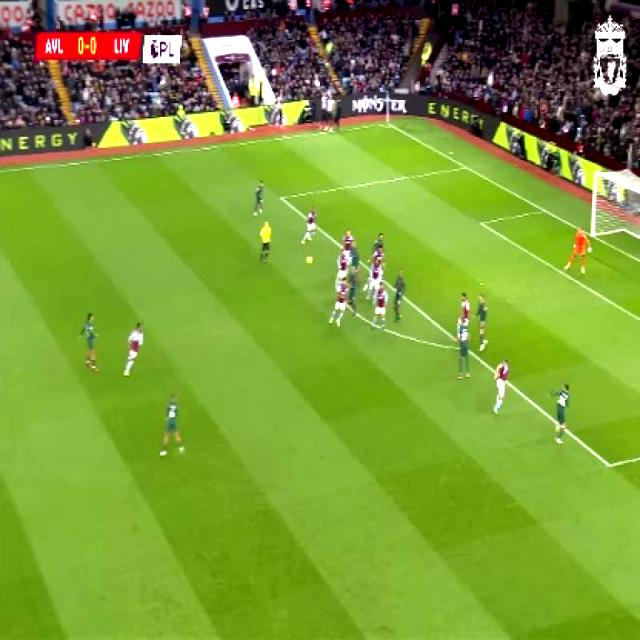bigarea_bottom_inner: (598, 449, 618, 479)
bigarea_top_inner: (272, 186, 288, 208)
bigarea_top_outter: (458, 158, 472, 174)
corner: (378, 116, 396, 130)
smallarea_top_inner: (472, 212, 488, 232)
smallarea_top_outter: (537, 202, 551, 218)
